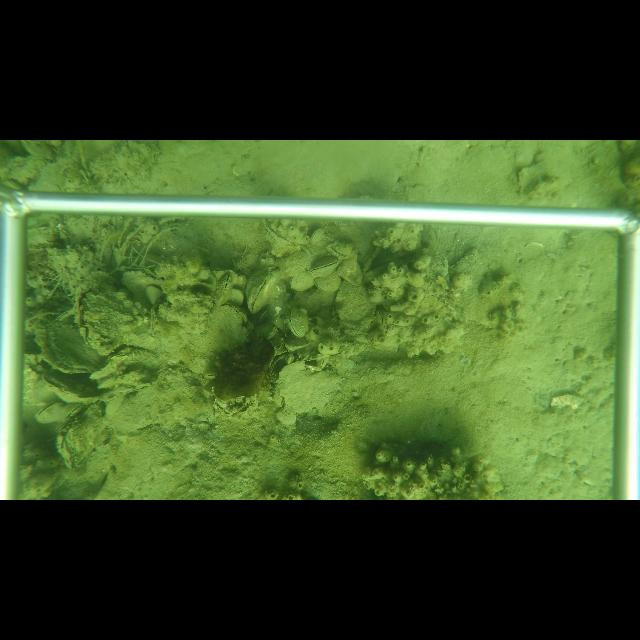Oyster-Closed: (274, 362, 348, 419), (37, 315, 101, 375), (55, 406, 110, 473), (334, 278, 378, 335), (38, 373, 101, 406), (246, 264, 281, 314), (258, 220, 303, 255), (121, 270, 163, 301), (215, 301, 249, 339), (33, 403, 71, 427), (104, 381, 147, 402), (312, 267, 343, 296), (18, 142, 57, 163), (286, 306, 311, 338), (87, 360, 120, 381), (289, 266, 316, 291), (310, 256, 340, 277), (215, 273, 234, 304), (328, 243, 352, 260), (228, 288, 246, 304), (309, 228, 324, 245), (262, 326, 278, 341), (4, 179, 25, 189)
